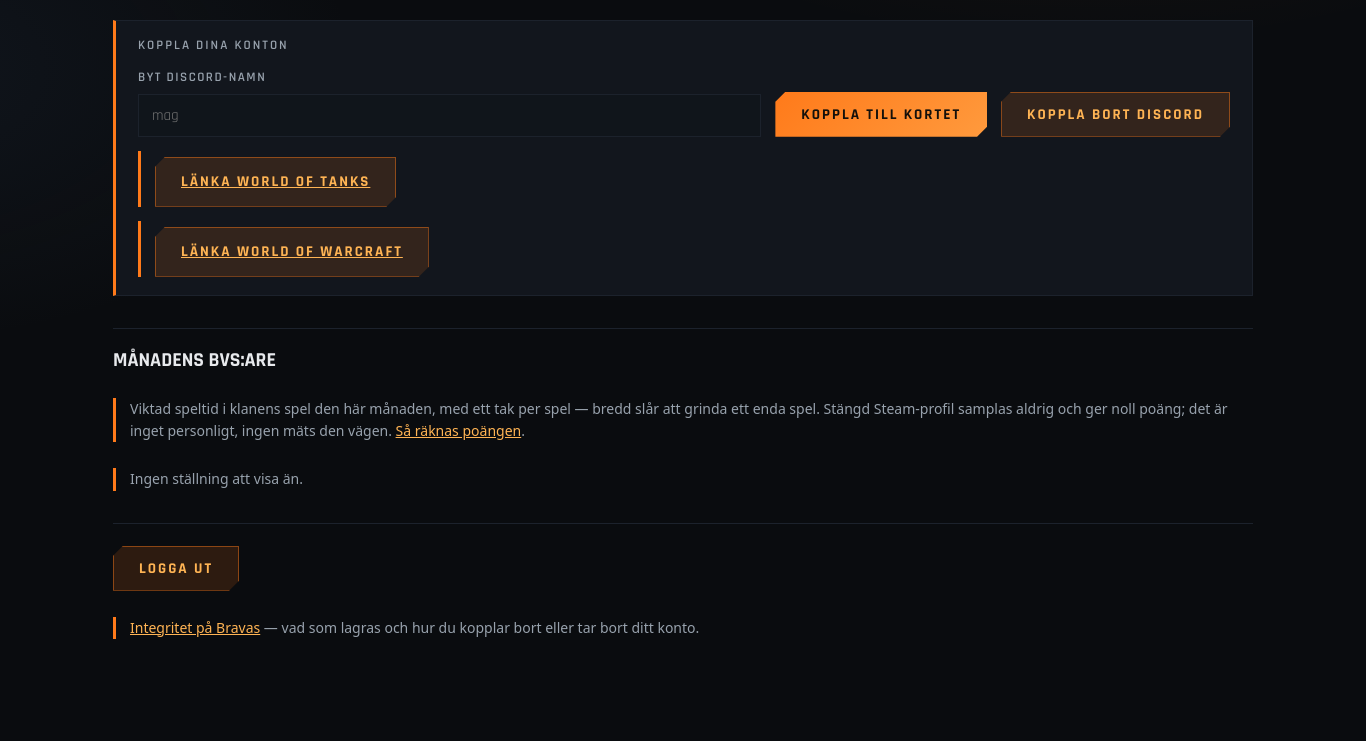
Test: logging out › says so when the server refused to log out
(page scrolled)
Click the button "Logga ut": (176, 568) [113,546,239,591]
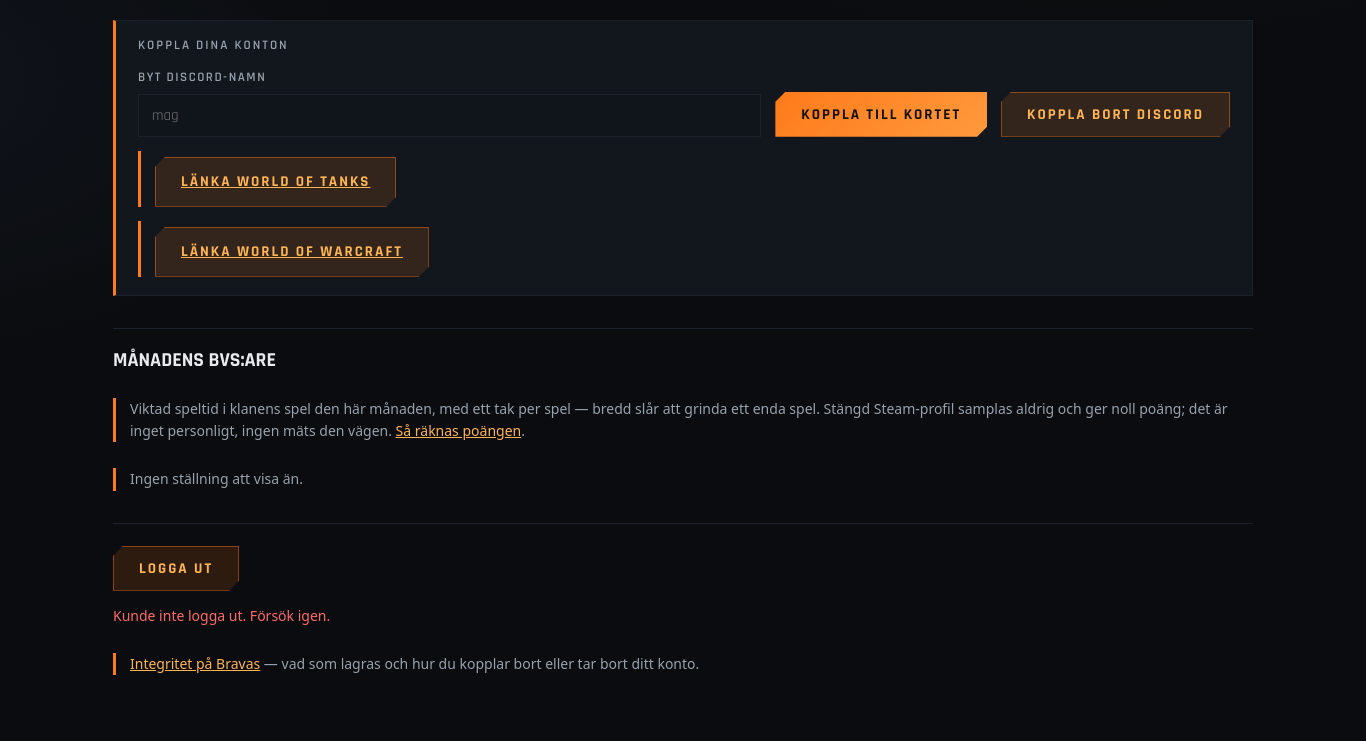
Now the text "Kunde inte logga ut. Försök igen." is shown, box [113,606,330,625]
